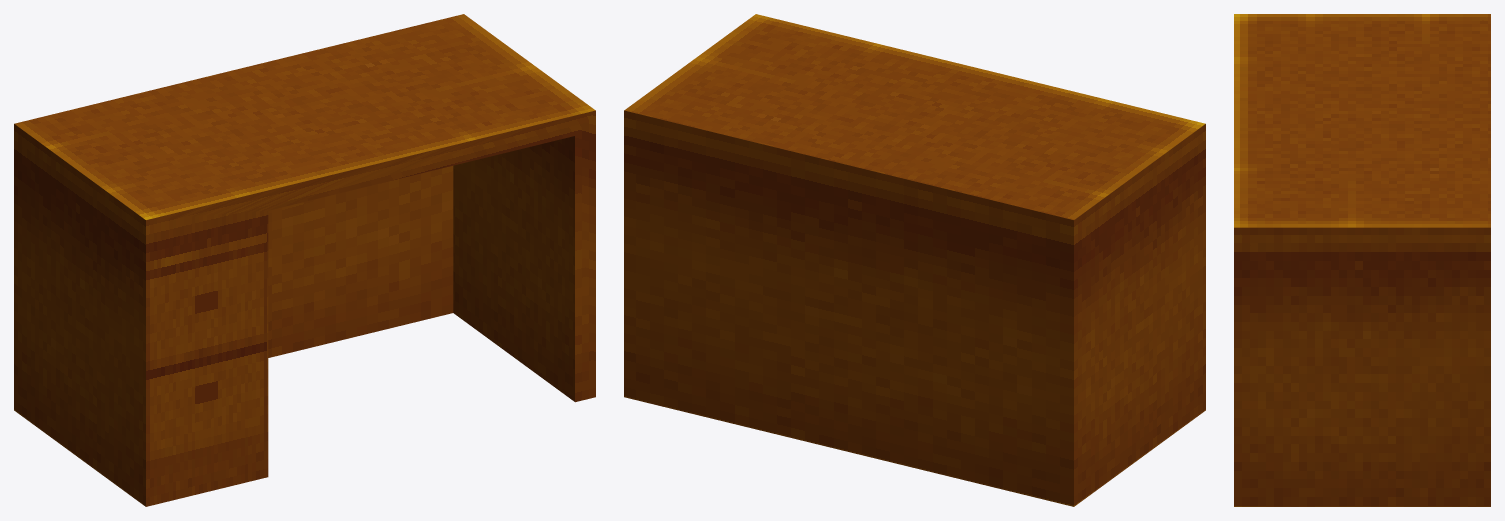
The model's file is desk.fbx.
3 renders of one model, left to right at view 1: azimuth 30°, elevation 25°; view 2: azimuth 150°, elevation 25°; view 3: azimuth 270°, elevation 25°, orthographic. The views are drawn at different scales.
Visible parts, largest first — view 1: desk; view 2: desk; view 3: desk.
Part boxes in pixels (x1,y1,x2,y2): desk: (14, 14, 595, 506); desk: (624, 14, 1205, 506); desk: (1234, 14, 1490, 506).
Size of the model in its own units: 150 by 91.44 by 76.2.
